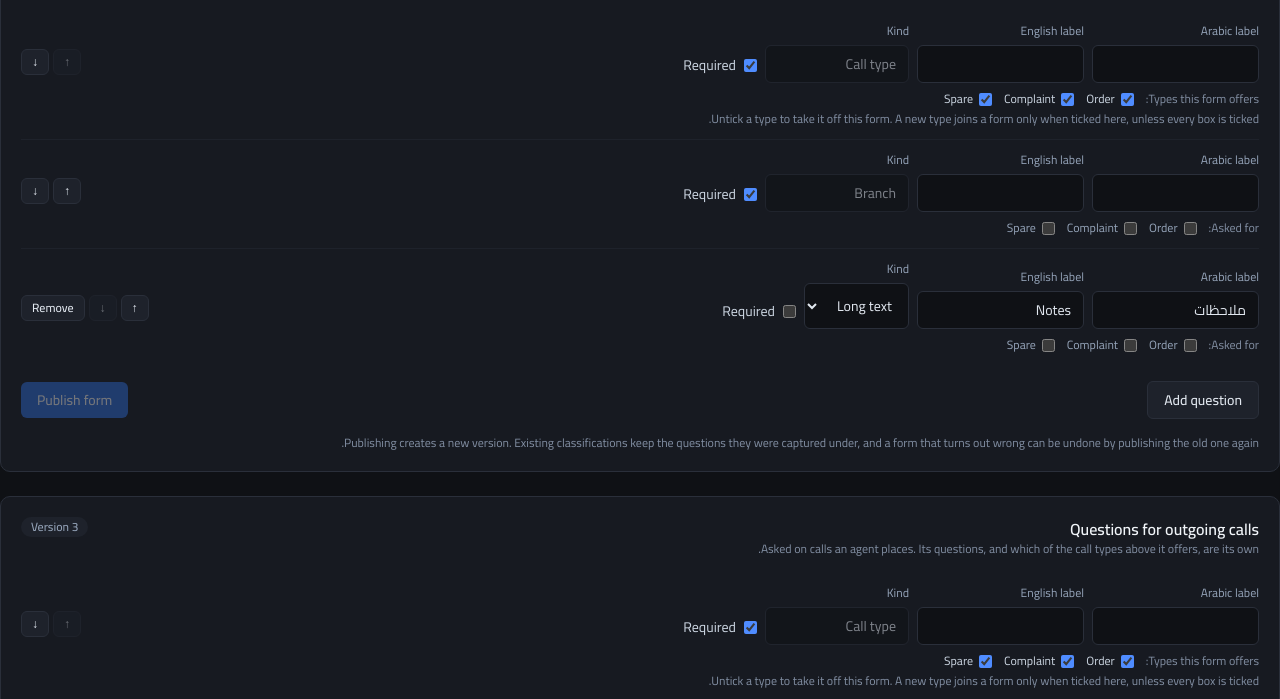
Test: classification form editor › cannot publish until something changes
(page scrolled)
Expected: the button "Publish form" is disabled, x1=21 y1=382 x2=128 y2=418
Step 1. Click the button "Add question" → (1203, 400), box x1=1147 y1=381 x2=1259 y2=419
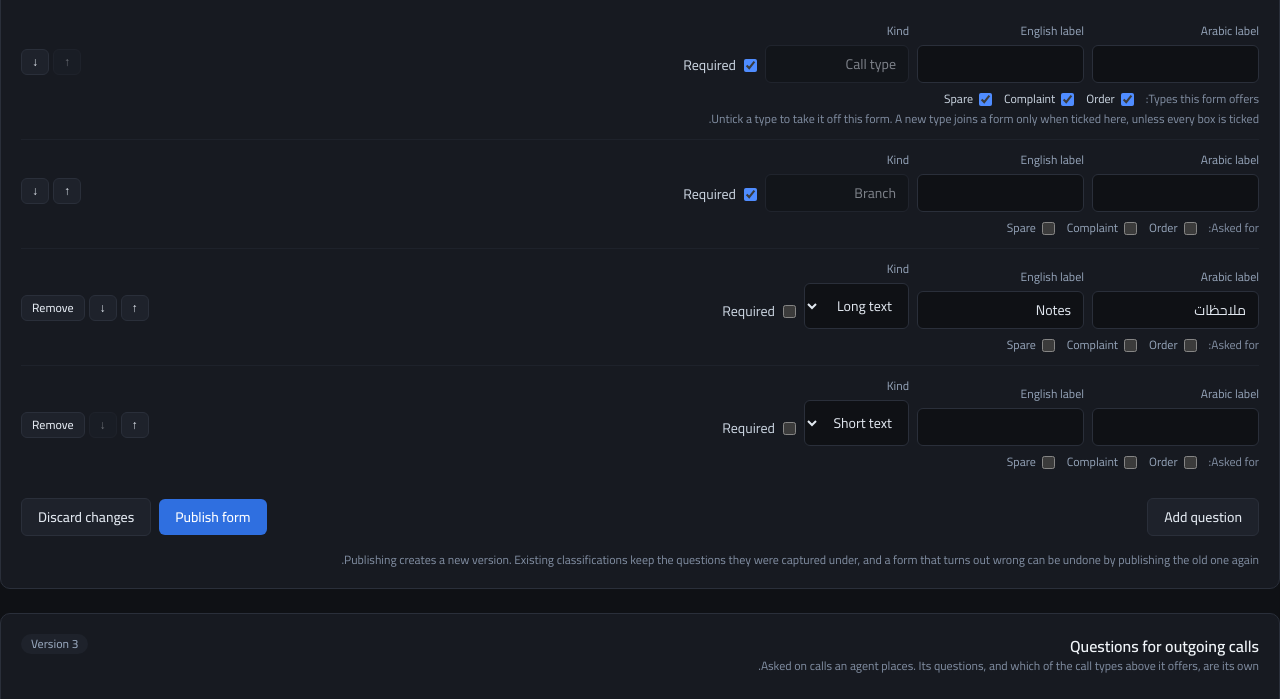
Now the button "Publish form" is enabled, box x1=159 y1=499 x2=267 y2=535
